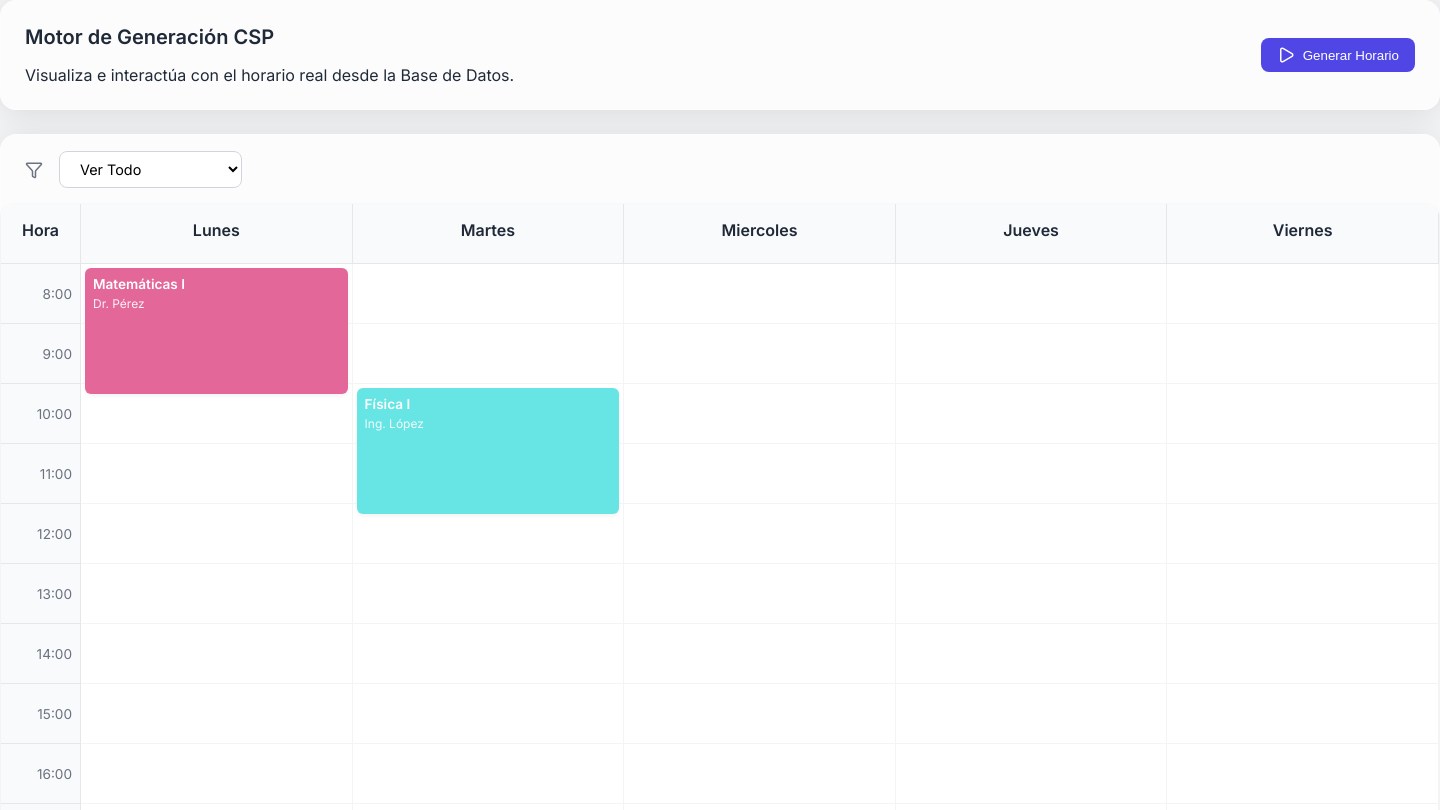
Test case: ScheduleGrid › abre modal al hacer click en un bloque de horario
Click the text "Dr. Pérez" at x=119, y=304, box [93,296,145,311]
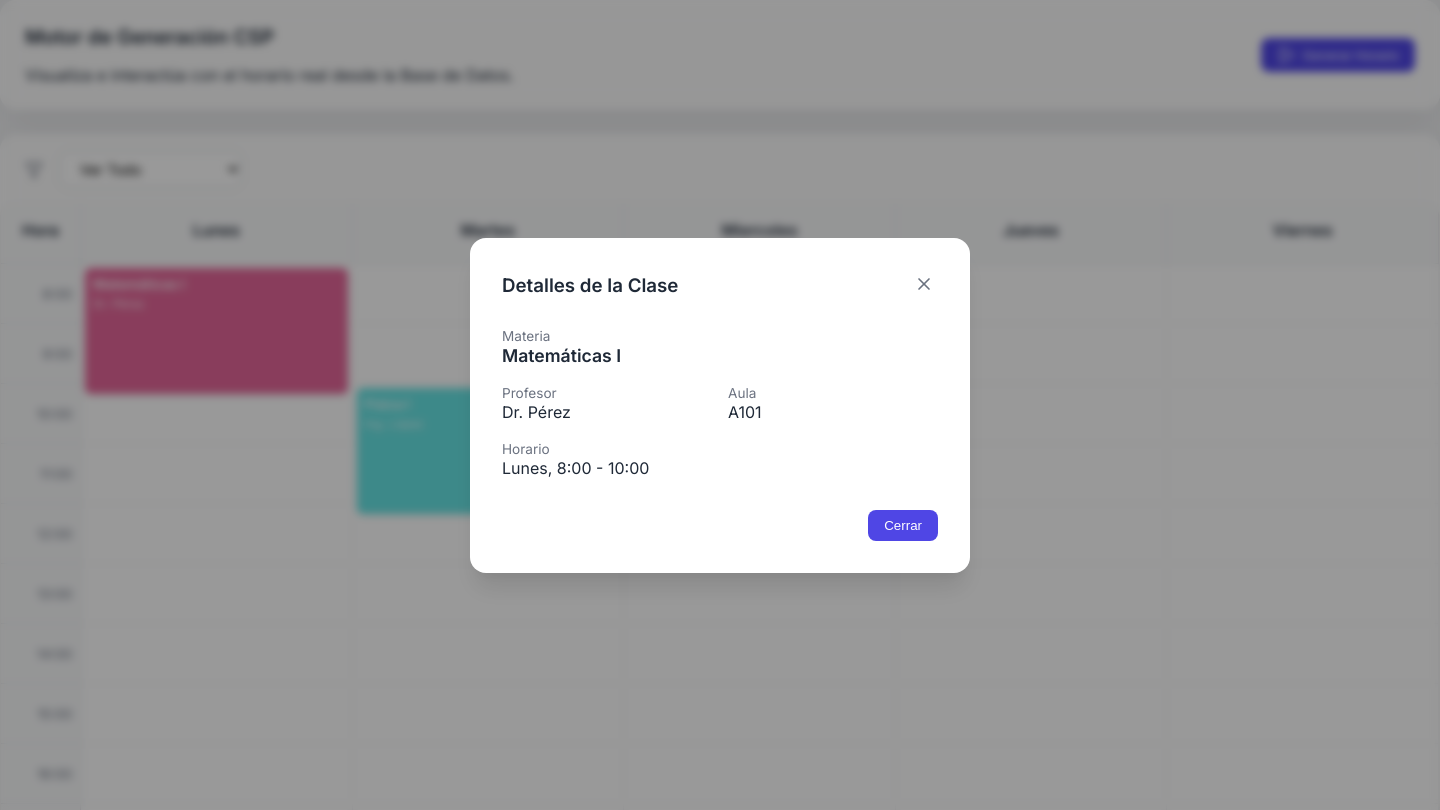
Expected: the heading "Detalles de la Clase" is shown, [502,274,678,296]
